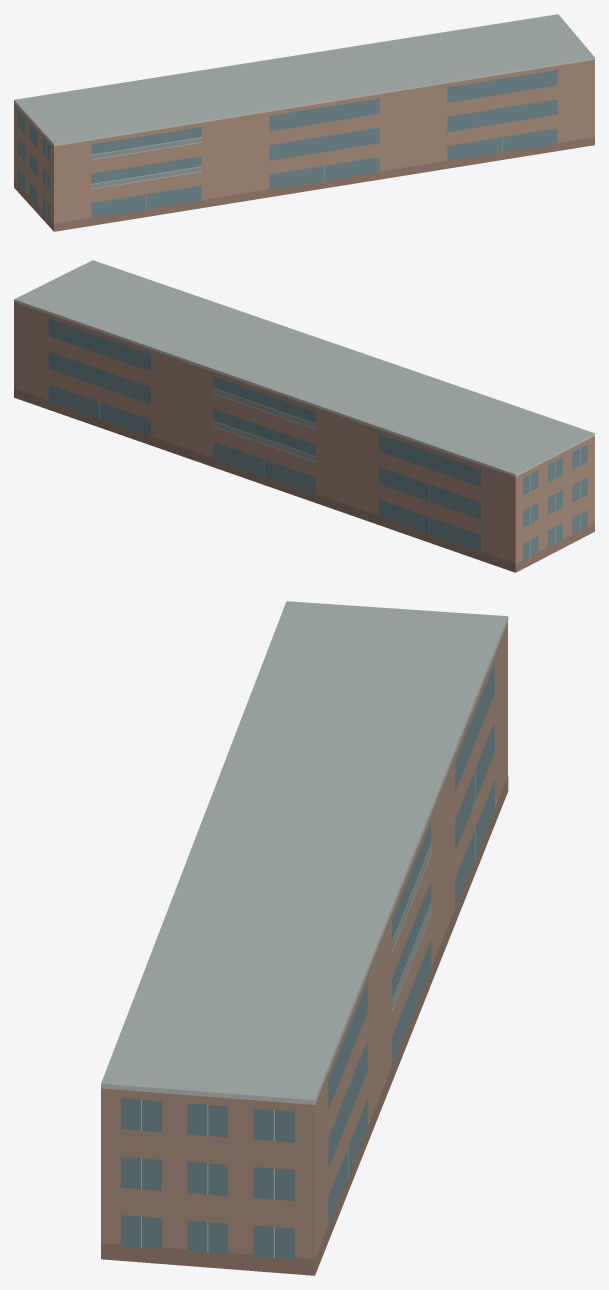
The model's file is survey-upis-32592416.glb.
3 renders of one model, top to bottom at view 1: azimuth 30°, elevation 25°; view 2: azimuth 150°, elevation 25°; view 3: azimuth 270°, elevation 25°, orthographic. The views are drawn at different scales.
Parts seen in each view (by area): view 1: survey-upis-32592416.tmp; view 2: survey-upis-32592416.tmp; view 3: survey-upis-32592416.tmp.
Boxes of the visible parts, <box> form: survey-upis-32592416.tmp: <box>14,14,594,231</box>; survey-upis-32592416.tmp: <box>14,260,594,572</box>; survey-upis-32592416.tmp: <box>101,601,508,1275</box>.
Bounding box in the file's own units: 55.83 × 9.15 × 19.25.
